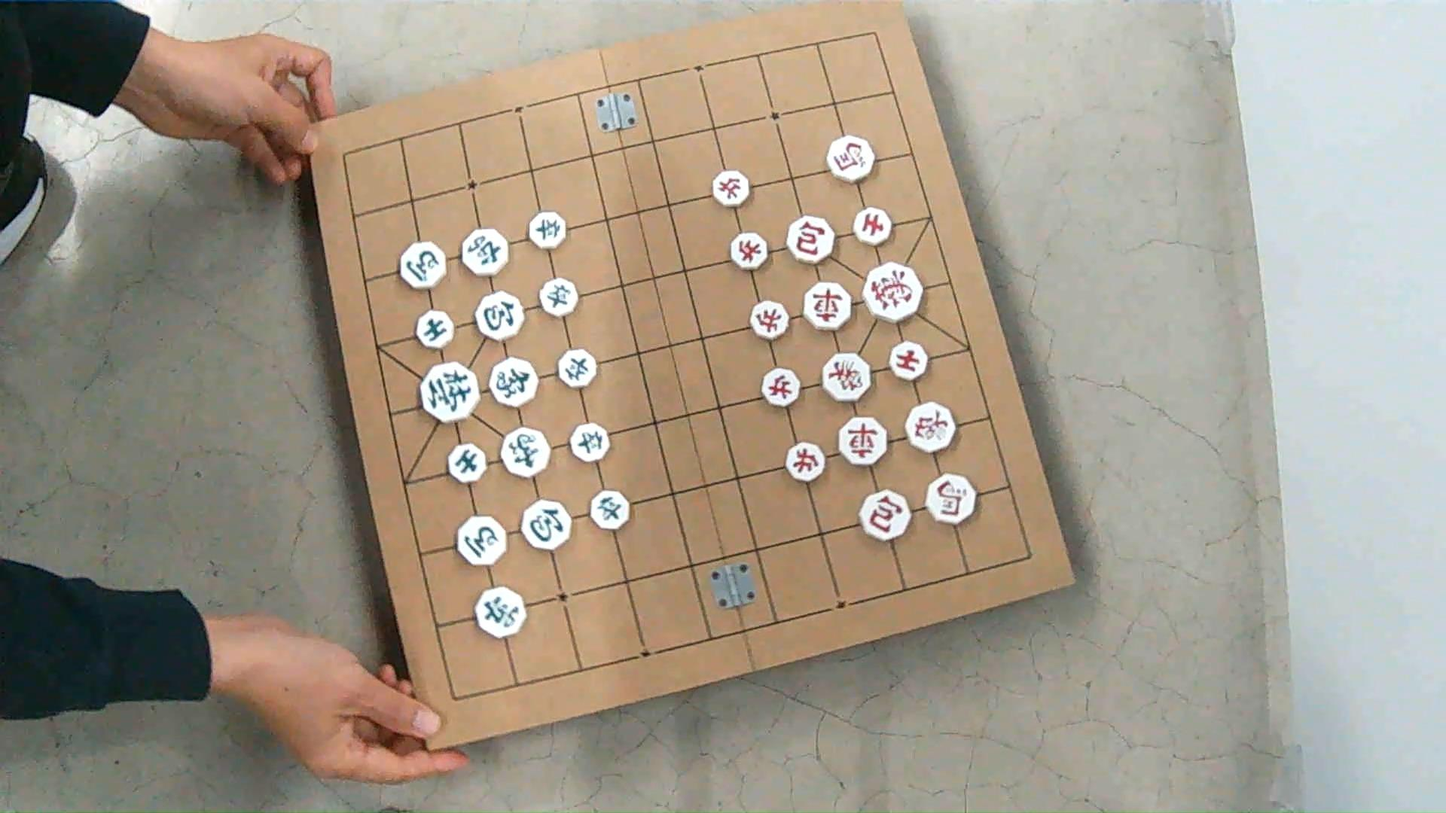cha_green: (477, 587, 526, 638), (462, 228, 508, 276)
cha_red: (838, 418, 886, 466), (804, 282, 851, 330)
jol_green: (590, 490, 630, 530), (557, 349, 596, 388), (538, 278, 578, 316), (571, 423, 609, 461), (528, 211, 566, 249)
jol_red: (786, 442, 825, 482), (761, 368, 800, 407), (751, 300, 789, 340), (712, 170, 749, 207), (731, 233, 767, 269)
ma_green: (457, 516, 506, 565), (398, 242, 446, 289)
ma_red: (926, 474, 975, 523), (827, 136, 874, 182)
po_green: (522, 500, 571, 550), (476, 291, 523, 340)
po_red: (860, 491, 910, 540), (787, 217, 834, 263)
sa_green: (447, 444, 485, 483), (416, 310, 453, 349)
sa_red: (889, 341, 928, 380), (853, 207, 890, 245)
sang_green: (501, 428, 549, 478), (489, 358, 536, 406)
sang_red: (906, 402, 956, 452), (822, 353, 872, 401)
wang_green: (420, 362, 479, 422)
wang_red: (863, 263, 921, 321)
